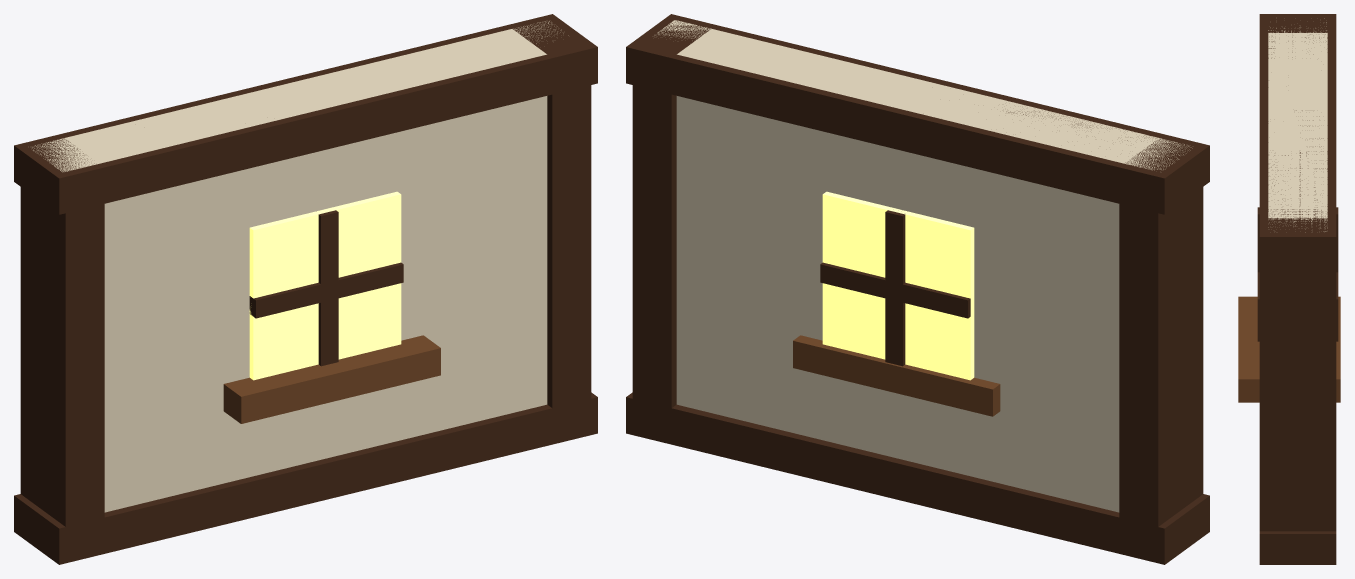
File: timber_wall_window.glb
3 renders of one model, left to right at view 1: azimuth 30°, elevation 25°; view 2: azimuth 150°, elevation 25°; view 3: azimuth 270°, elevation 25°, orthographic. The views are drawn at different scales.
Visible parts, largest first — view 1: wall_plaster, post, beam_top, beam_bot, post.001, win_pane, win_sill, win_v, win_h; view 2: wall_plaster, post, beam_top, beam_bot, win_pane, post.001, win_sill, win_v, win_h; view 3: post.001, wall_plaster, beam_top, win_sill, beam_bot, post, win_v, win_h.
Boxes of the visible parts, x1,y1,x2,y2 form: wall_plaster: (32, 21, 568, 512); post: (20, 134, 104, 563); beam_top: (14, 14, 597, 214); beam_bot: (14, 392, 597, 564); post.001: (507, 15, 591, 444); win_pane: (249, 191, 401, 380); win_sill: (223, 335, 440, 423); win_v: (318, 210, 338, 366); win_h: (249, 262, 403, 318); wall_plaster: (654, 20, 1192, 512); post: (1119, 134, 1203, 561); beam_top: (626, 14, 1209, 214); beam_bot: (626, 392, 1209, 564); win_pane: (822, 191, 974, 380); post.001: (632, 15, 716, 443); win_sill: (793, 335, 1000, 416); win_v: (885, 210, 905, 366); win_h: (820, 262, 970, 318); post.001: (1259, 218, 1336, 531); wall_plaster: (1268, 18, 1327, 232); beam_top: (1259, 14, 1336, 267); win_sill: (1238, 296, 1340, 402); beam_bot: (1259, 531, 1336, 564); post: (1259, 16, 1336, 32); win_v: (1257, 207, 1338, 341); win_h: (1257, 272, 1338, 314).
Size of the model in its own units: 1.24 by 0.85 by 0.24.
